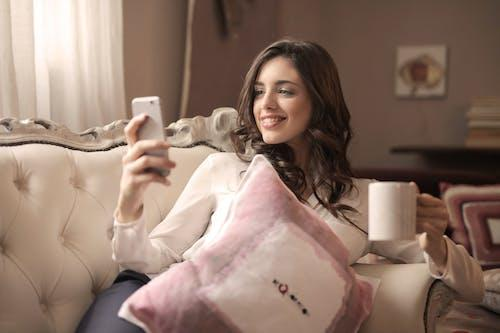Mug: (343, 176, 441, 258)
